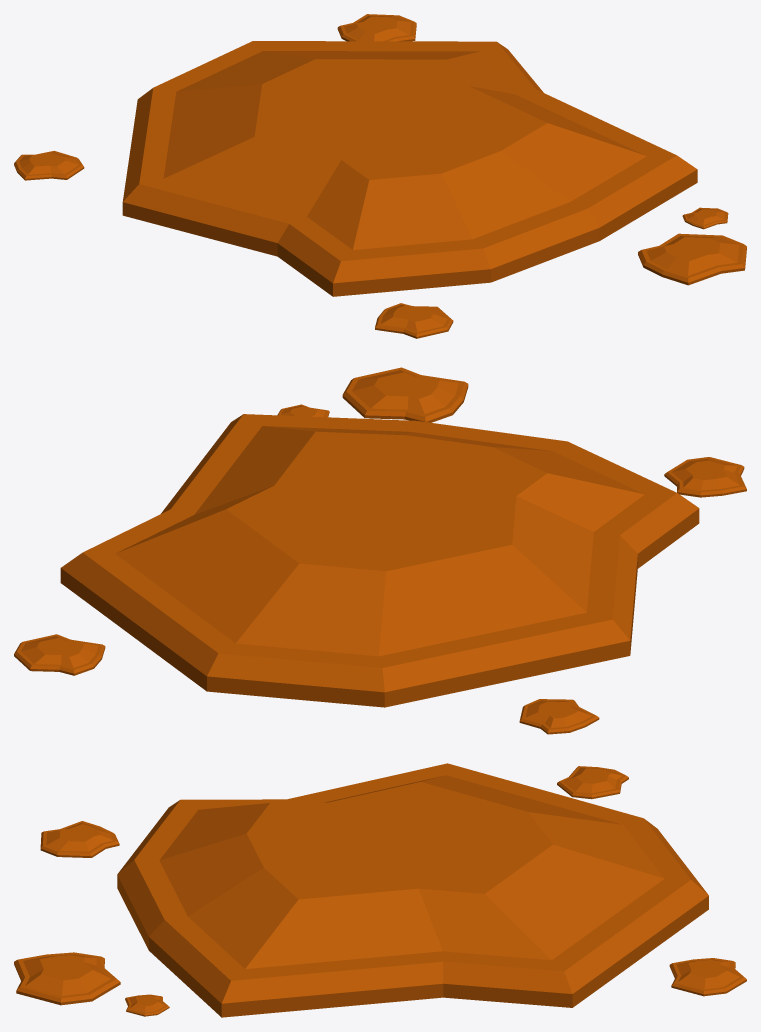
File: Lava.fbx
3 views of the same model, one above another, from view 1: azimuth 30°, elevation 25°; view 2: azimuth 150°, elevation 25°; view 3: azimuth 270°, elevation 25° (orthographic). The views are drawn at different scales.
Visible parts, largest first — view 1: Cylinder.001; view 2: Cylinder.001; view 3: Cylinder.001.
Part boxes in pixels (<box>): Cylinder.001: <box>14,14,746,338</box>; Cylinder.001: <box>14,367,746,734</box>; Cylinder.001: <box>14,763,746,1017</box>.
Size of the model in its own units: 221 by 26.23 by 272.
